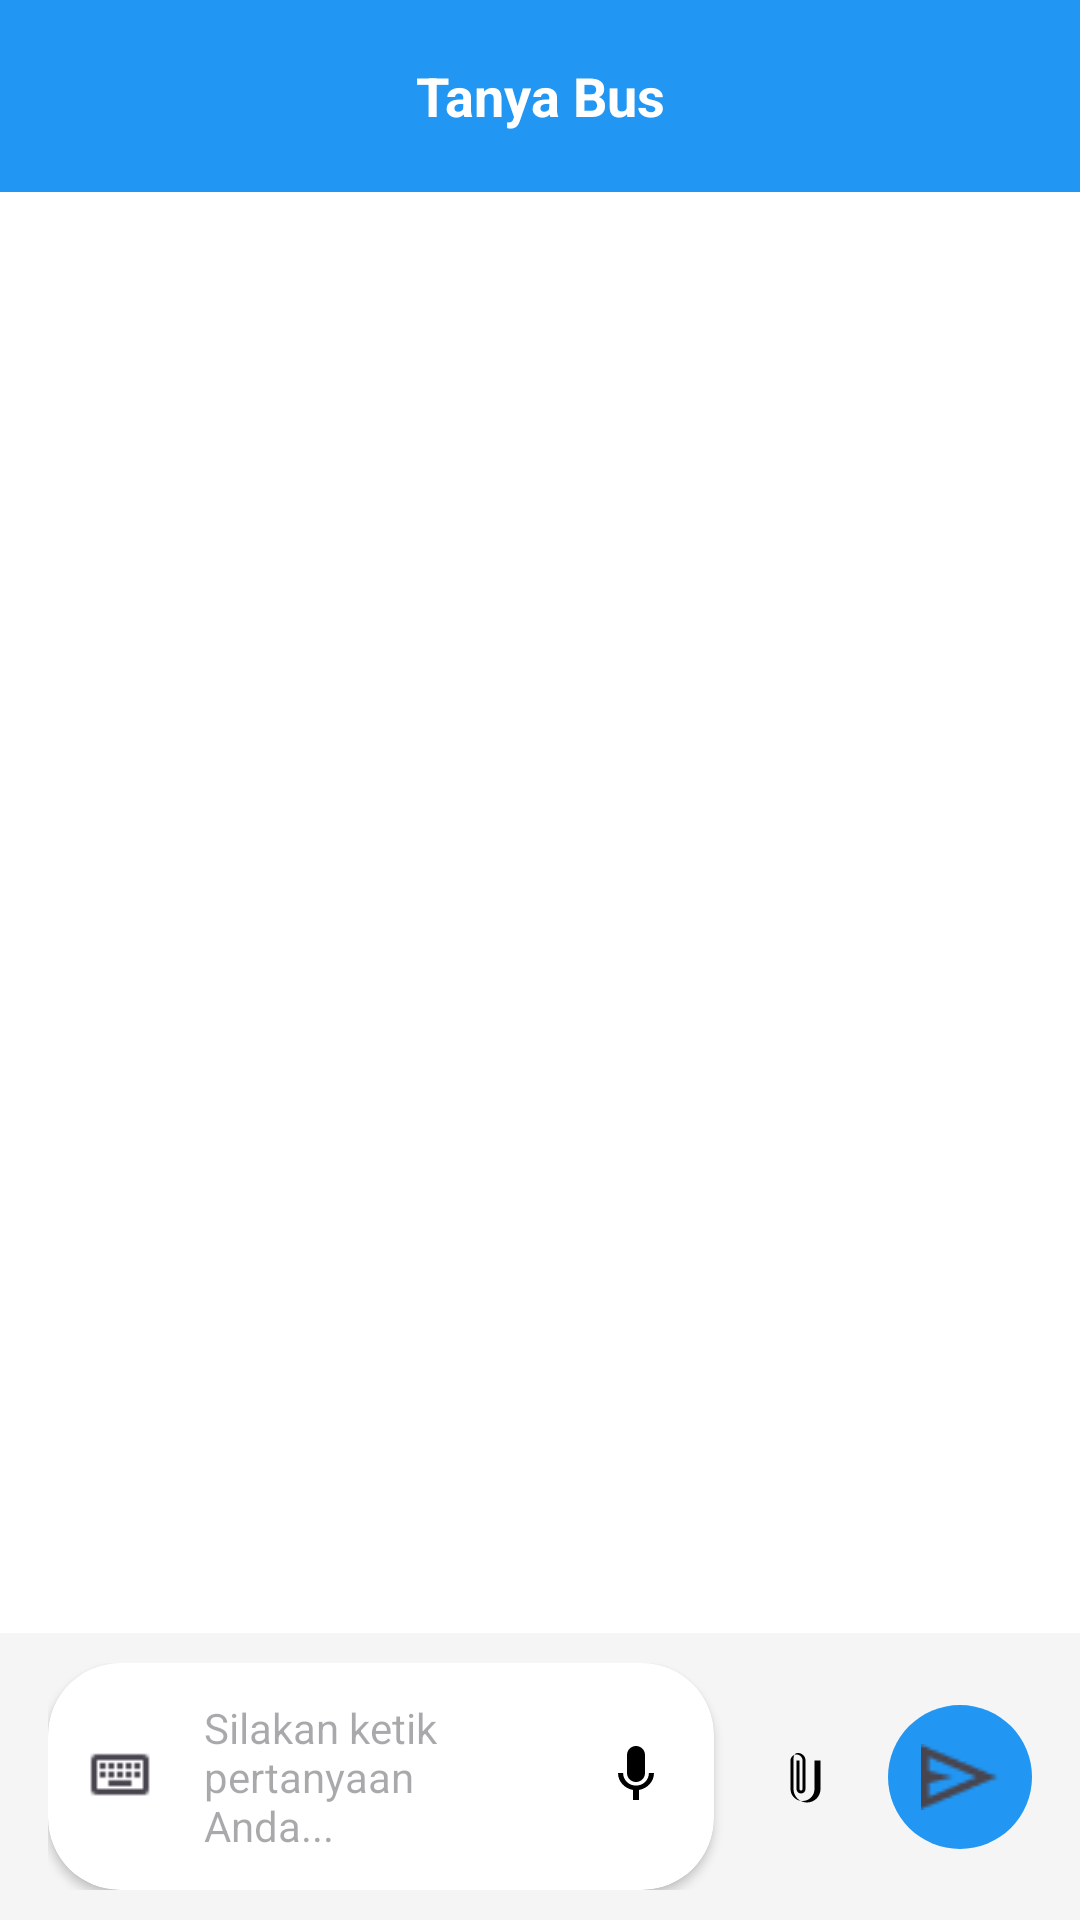

Where icons sit on this 1080w x 1920h app screen, as (x1, y1, x2, y2):
Keyboard icon: (90, 1753, 150, 1796)
Kirim pesan: (888, 1705, 1032, 1849)
Lampirkan file: (790, 1753, 821, 1803)
Voice input: (618, 1746, 654, 1800)
